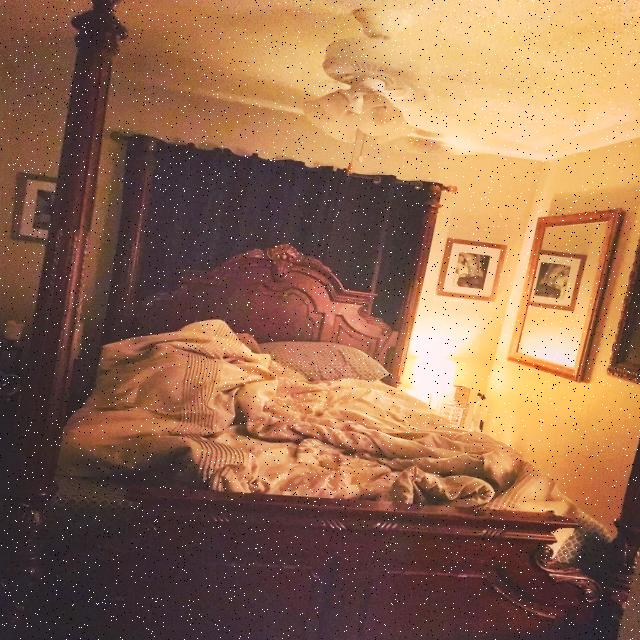bed: (103, 224, 532, 625)
